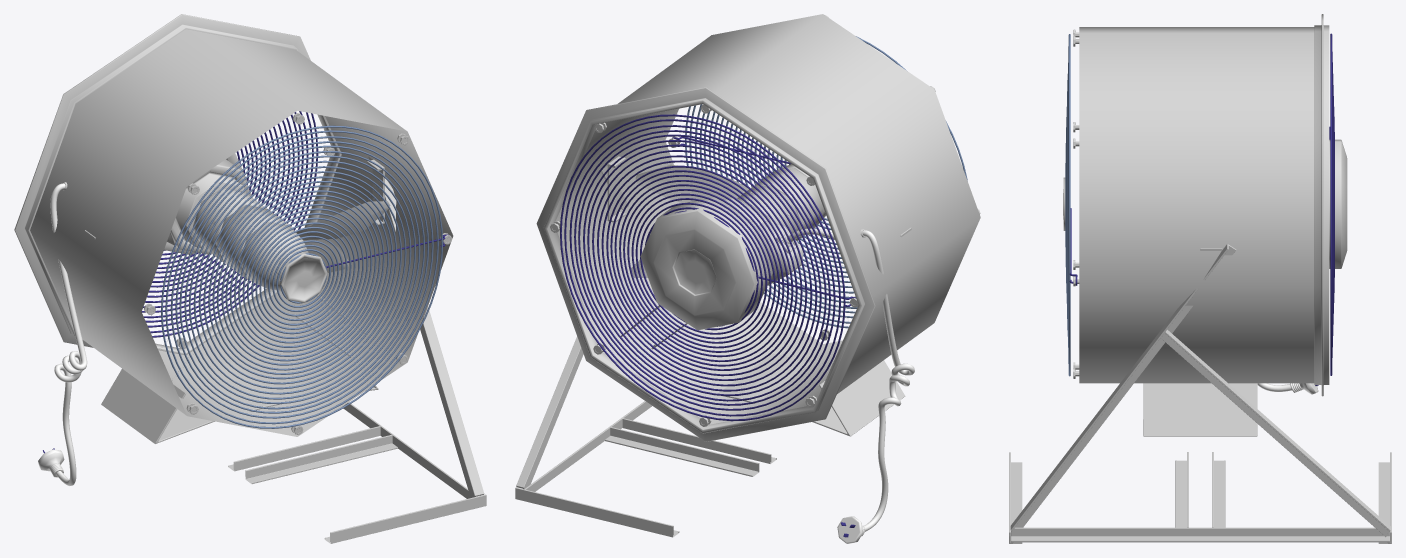
File: ventilador.gltf
3 renders of one model, left to right at view 1: azimuth 30°, elevation 25°; view 2: azimuth 150°, elevation 25°; view 3: azimuth 270°, elevation 25°, orthographic. The views are drawn at different scales.
Parts seen in each view (by area): view 1: Cylinder, BezierCircle, Plane, Cylinder.001, Plane.001, BezierCircle.003, Cylinder.002, Cylinder.003, NurbsPath, Circle.016, Plane.002, Plane.003; view 2: Cylinder, BezierCircle.003, Cylinder.001, Cylinder.003, Plane, Plane.001, BezierCircle, NurbsPath, Cylinder.002, Plane.002, Cube, Circle.025; view 3: Cylinder, Plane, Cylinder.001, Plane.001, Cylinder.003, BezierCircle, BezierCircle.003.
Part boxes in pixels (x1,y1,x2,y2): Cylinder: (30, 29, 453, 436); BezierCircle: (161, 125, 443, 428); Plane: (228, 157, 486, 543); Cylinder.001: (14, 14, 341, 354); Plane.001: (101, 313, 378, 443); BezierCircle.003: (141, 111, 318, 337); Cylinder.002: (193, 188, 308, 290); Cylinder.003: (164, 153, 298, 280); NurbsPath: (50, 183, 87, 485); Circle.016: (280, 253, 327, 302); Plane.002: (296, 201, 390, 239); Plane.003: (303, 239, 348, 272); Cylinder: (556, 14, 980, 424); BezierCircle.003: (560, 114, 845, 421); Cylinder.001: (536, 87, 875, 441); Cylinder.003: (640, 197, 802, 330); Plane: (515, 166, 776, 537); Plane.001: (651, 322, 905, 436); BezierCircle: (685, 36, 967, 328); NurbsPath: (787, 228, 914, 531); Cylinder.002: (737, 164, 826, 240); Plane.002: (635, 164, 748, 202); Cube: (607, 156, 625, 222); Circle.025: (837, 516, 864, 543); Cylinder: (1079, 27, 1314, 383); Plane: (1009, 244, 1391, 543); Cylinder.001: (1314, 14, 1329, 396); Plane.001: (1143, 383, 1257, 436); Cylinder.003: (1329, 139, 1347, 268); BezierCircle: (1065, 34, 1070, 376); BezierCircle.003: (1330, 33, 1334, 375).
Bounding box in the file's own units: 2.15 × 2.58 × 2.02.
